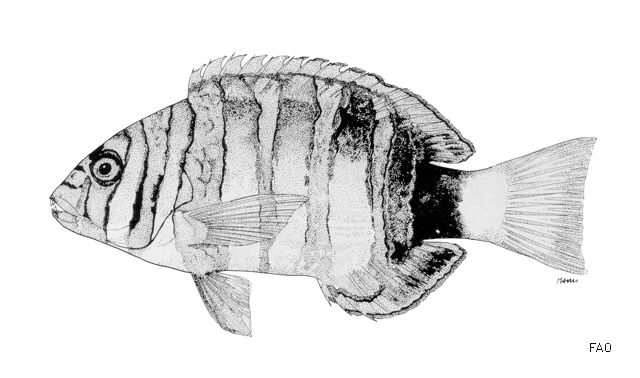fish: (51, 55, 599, 338)
